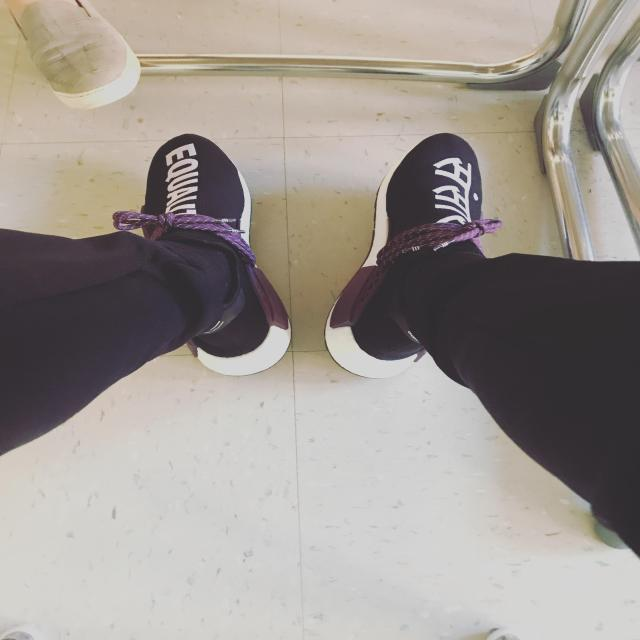shoe: (320, 131, 492, 384), (122, 133, 294, 380)
